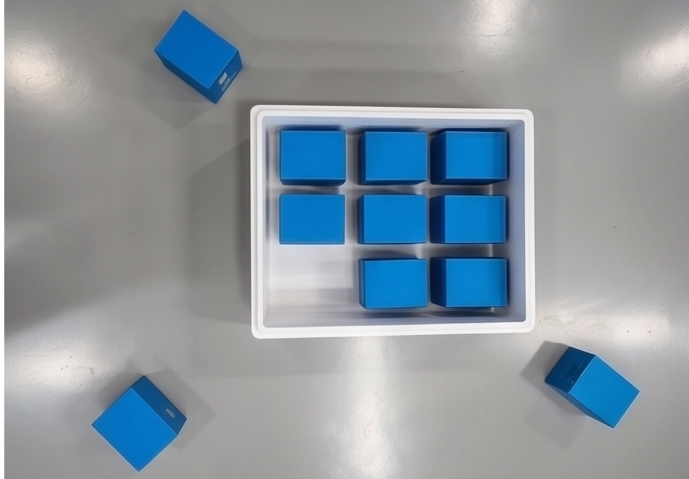blue_box: (506, 7, 601, 107), (448, 374, 535, 470), (50, 50, 143, 132), (179, 293, 260, 348), (180, 170, 260, 221), (260, 293, 336, 346), (180, 236, 260, 285), (343, 291, 410, 348), (260, 234, 336, 283), (260, 170, 332, 218), (343, 234, 410, 285)
container_box: (154, 135, 440, 375)
